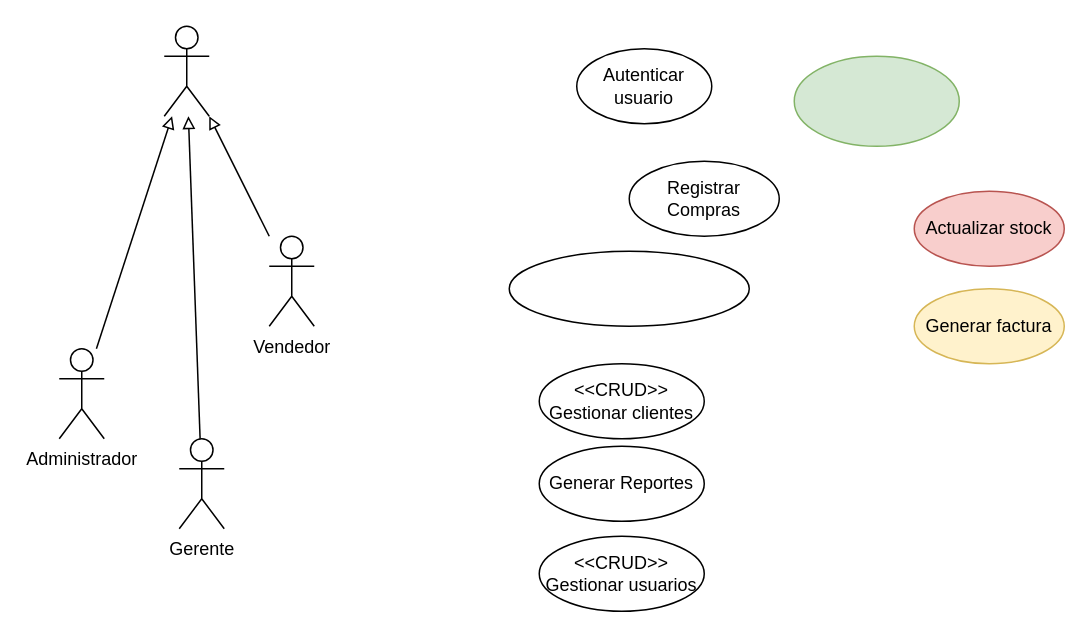
Image size: 1091x638. Some labels were removed from this diagram. The centre of each missing label's shape, as x and y in pixels:
"<<CRUD>> Gestionar productos" goes at point (876, 100).
"Administrar venta" goes at point (628, 288).
"Usuario" goes at point (186, 70).
